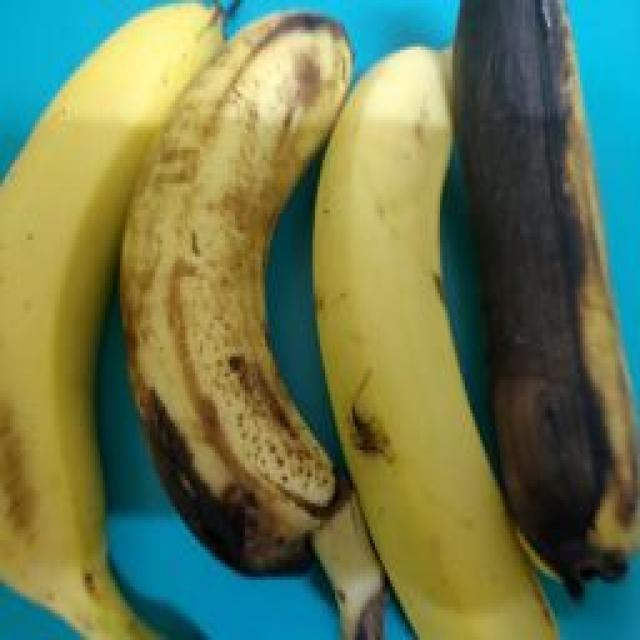Organik: (137, 6, 383, 628), (0, 10, 238, 630), (319, 32, 551, 640), (459, 7, 632, 620)
